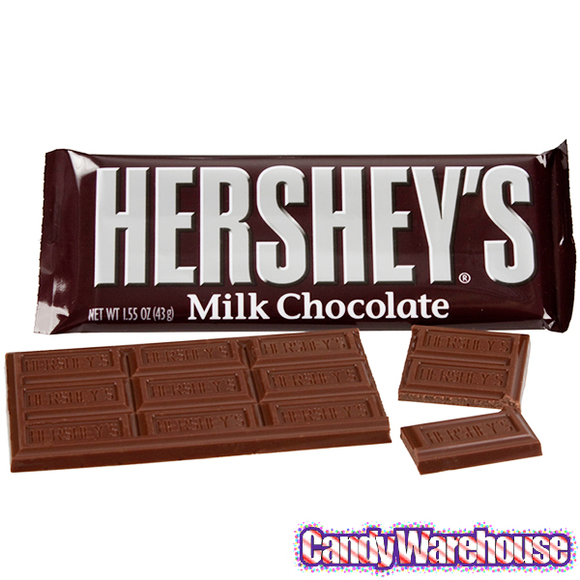hershey: (32, 145, 576, 332)
